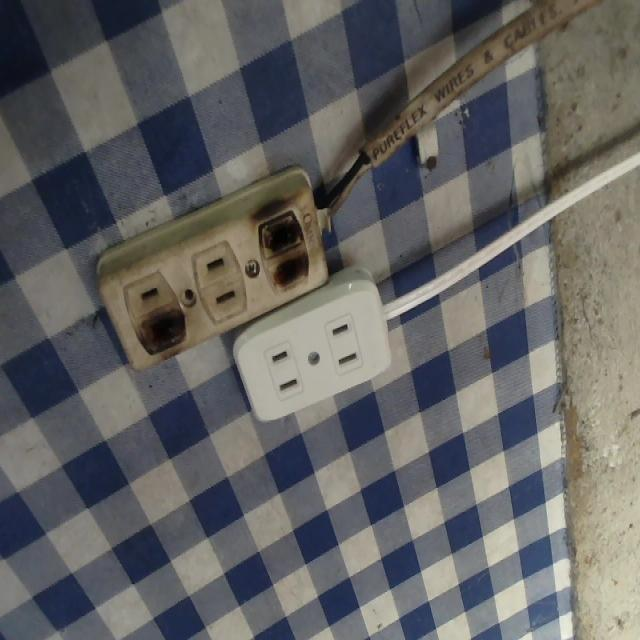-: (256, 208, 311, 287), (126, 308, 189, 368)
